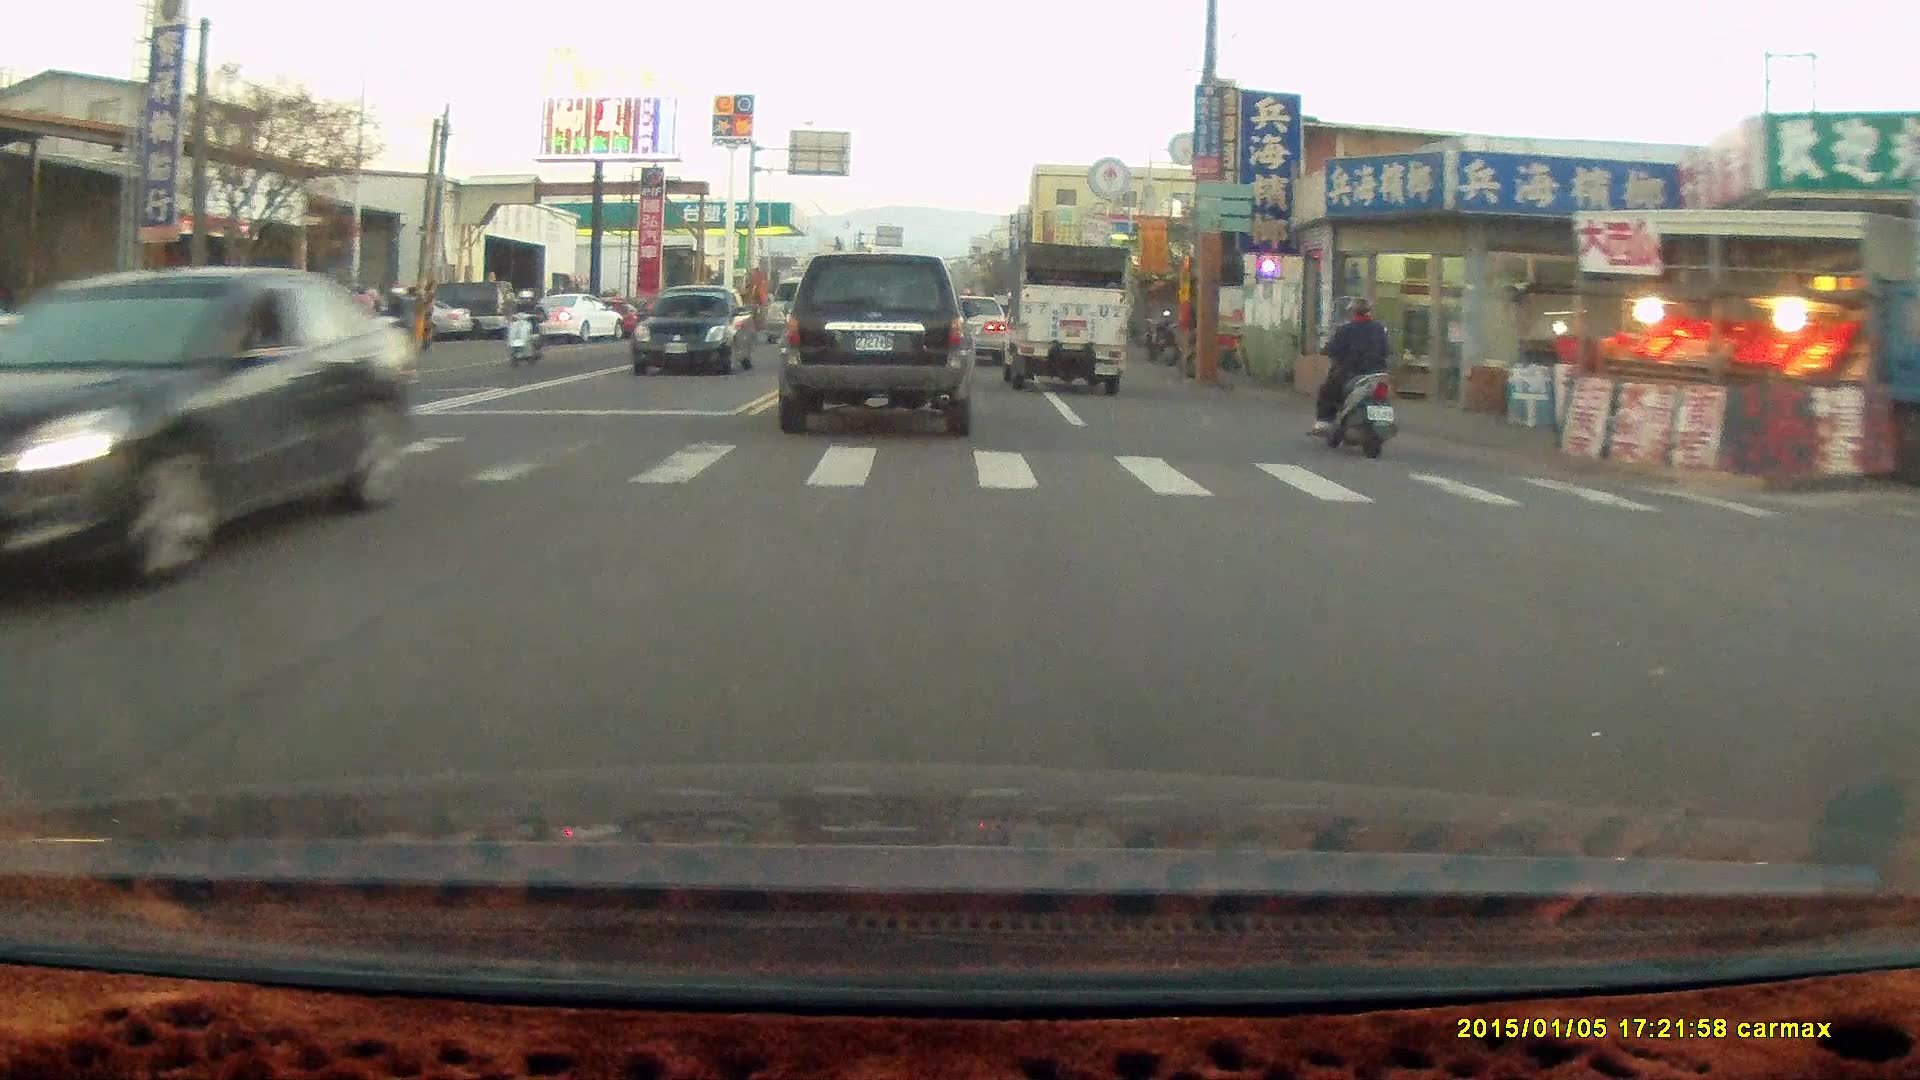rider: (1306, 293, 1398, 459), (506, 283, 549, 363)
vehicle: (1, 264, 418, 607), (773, 251, 981, 437), (997, 237, 1131, 393), (635, 283, 759, 378), (761, 274, 853, 344), (934, 291, 1009, 365), (527, 291, 624, 348)
